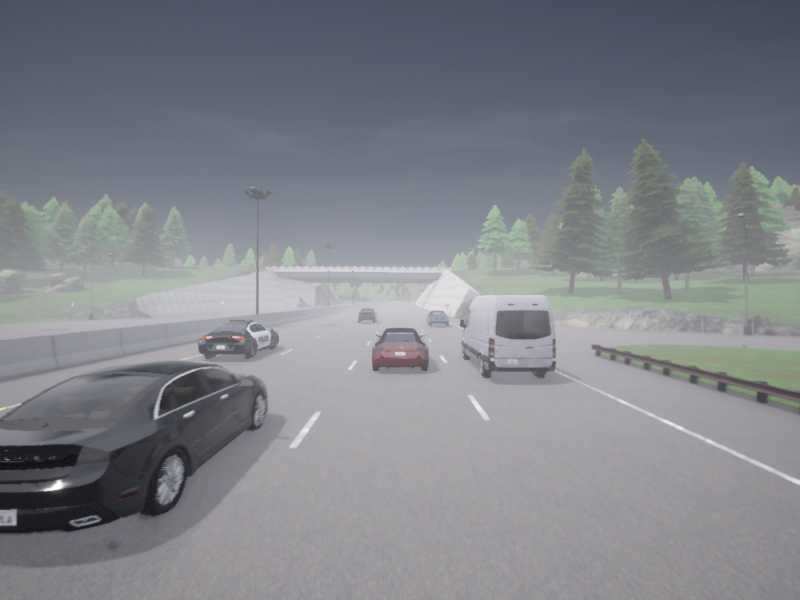vehicle: (0, 360, 266, 534), (460, 295, 555, 376), (198, 320, 278, 358), (372, 327, 428, 370), (426, 311, 448, 325), (358, 308, 378, 322)
